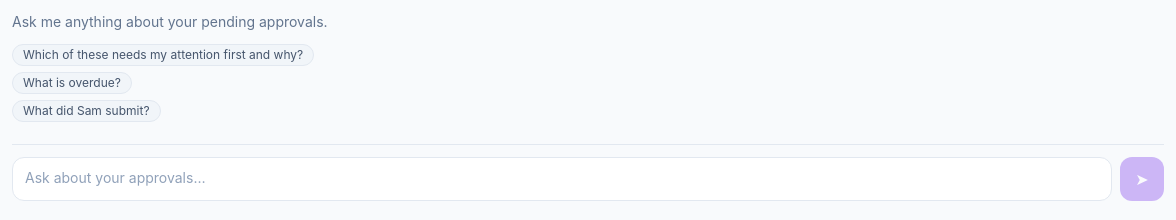
Test case: <ChatView /> › surfaces a typed server error (e.g. rate limit) instead of a generic failure
In the text box named "message": (562, 179) [12,157,1112,201], type "hello"
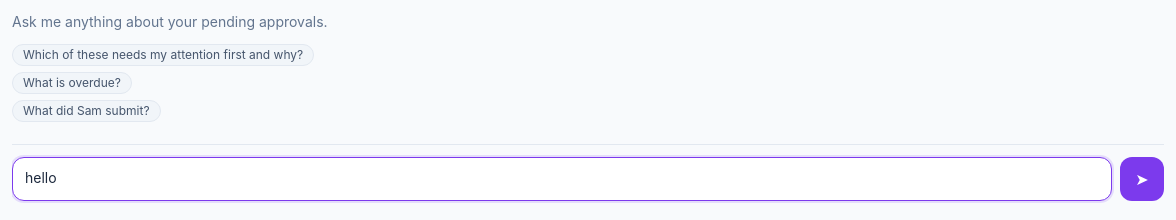
Click the button named "send": (1142, 179) [1120,157,1164,201]
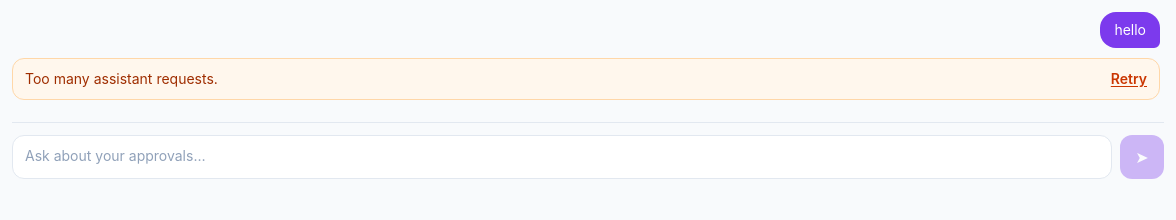
Expected: the message shows "Too many assistant requests.", [25,70,218,87]
